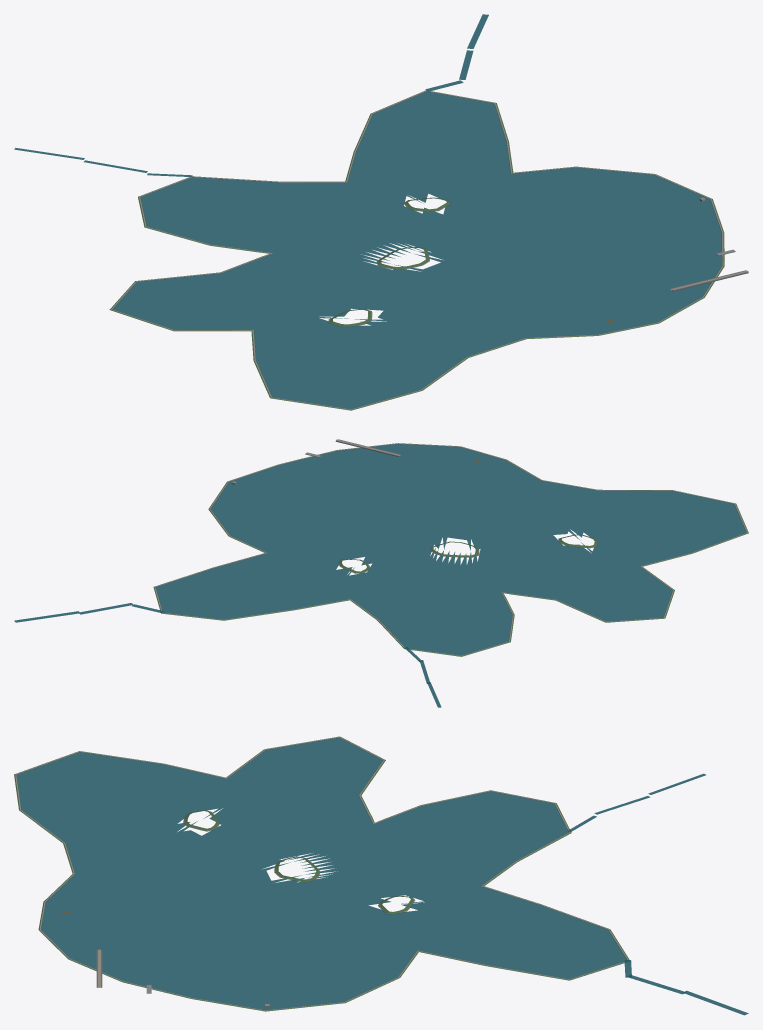
Rendered from water_dap_da_nhim_don_duong.glb.
3 views of the same model, one above another, from view 1: azimuth 30°, elevation 25°; view 2: azimuth 150°, elevation 25°; view 3: azimuth 270°, elevation 25° (orthographic). The views are drawn at different scales.
Parts seen in each view (by area): view 1: water_surface_water_dap_da_nhim_don_duong, shoreline_terrain_transition_verge_water_dap_da_nhim_don_duo, lakeside_promenade_walkway_water_dap_da_nhim_don_duong, embankment_stone_coping_water_dap_da_nhim_don_duong; view 2: water_surface_water_dap_da_nhim_don_duong, shoreline_terrain_transition_verge_water_dap_da_nhim_don_duo, lakeside_promenade_walkway_water_dap_da_nhim_don_duong, embankment_stone_coping_water_dap_da_nhim_don_duong, headwater_terraces_stream_inflow_song_da_nhim_thuong; view 3: water_surface_water_dap_da_nhim_don_duong, shoreline_terrain_transition_verge_water_dap_da_nhim_don_duo, lakeside_promenade_walkway_water_dap_da_nhim_don_duong, embankment_stone_coping_water_dap_da_nhim_don_duong, headwater_terraces_stream_inflow_song_da_nhim_thuong, embankment_stone_slope_water_dap_da_nhim_don_duong.
Boxes of the visible parts, x1,y1,x2,y2 form: water_surface_water_dap_da_nhim_don_duong: [112, 91, 721, 409]; shoreline_terrain_transition_verge_water_dap_da_nhim_don_duo: [109, 90, 724, 410]; lakeside_promenade_walkway_water_dap_da_nhim_don_duong: [111, 90, 723, 409]; embankment_stone_coping_water_dap_da_nhim_don_duong: [112, 91, 722, 409]; water_surface_water_dap_da_nhim_don_duong: [155, 444, 746, 655]; shoreline_terrain_transition_verge_water_dap_da_nhim_don_duo: [153, 443, 748, 656]; lakeside_promenade_walkway_water_dap_da_nhim_don_duong: [154, 443, 747, 656]; embankment_stone_coping_water_dap_da_nhim_don_duong: [155, 443, 746, 655]; headwater_terraces_stream_inflow_song_da_nhim_thuong: [14, 603, 163, 622]; water_surface_water_dap_da_nhim_don_duong: [16, 737, 626, 1010]; shoreline_terrain_transition_verge_water_dap_da_nhim_don_duo: [14, 736, 629, 1011]; lakeside_promenade_walkway_water_dap_da_nhim_don_duong: [15, 737, 628, 1010]; embankment_stone_coping_water_dap_da_nhim_don_duong: [16, 737, 627, 1010]; headwater_terraces_stream_inflow_song_da_nhim_thuong: [624, 960, 748, 1015]; embankment_stone_slope_water_dap_da_nhim_don_duong: [17, 737, 626, 958].
Size of the model in its own units: 3235 by 28.75 by 3547.
